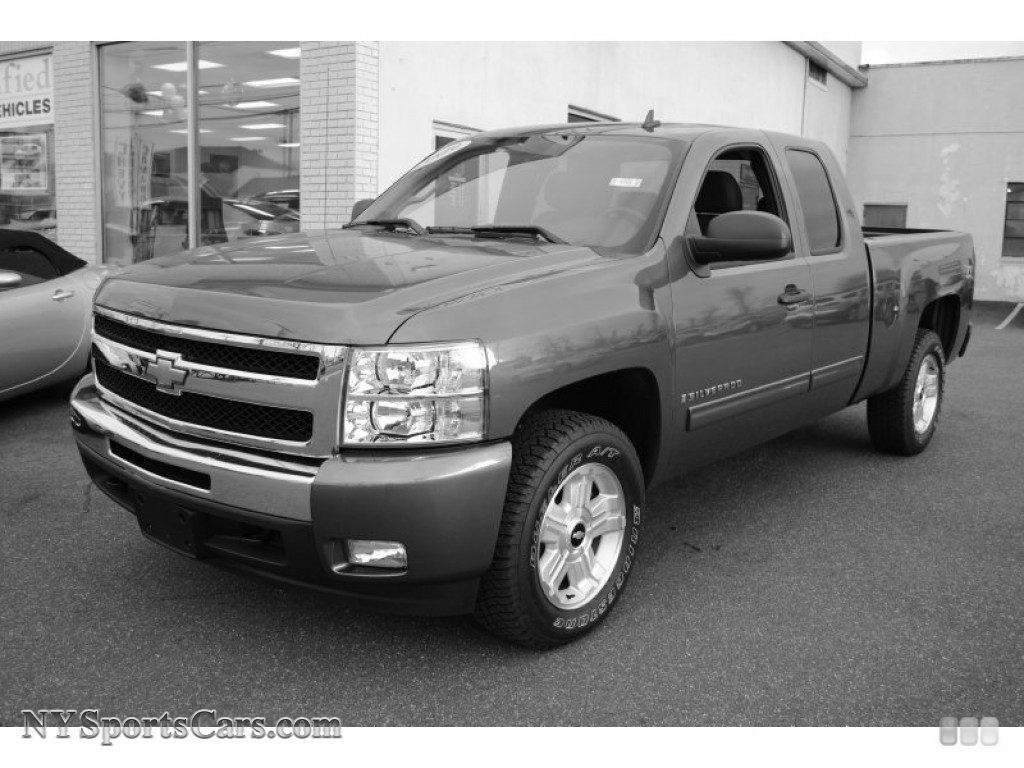car: (62, 105, 980, 656)
